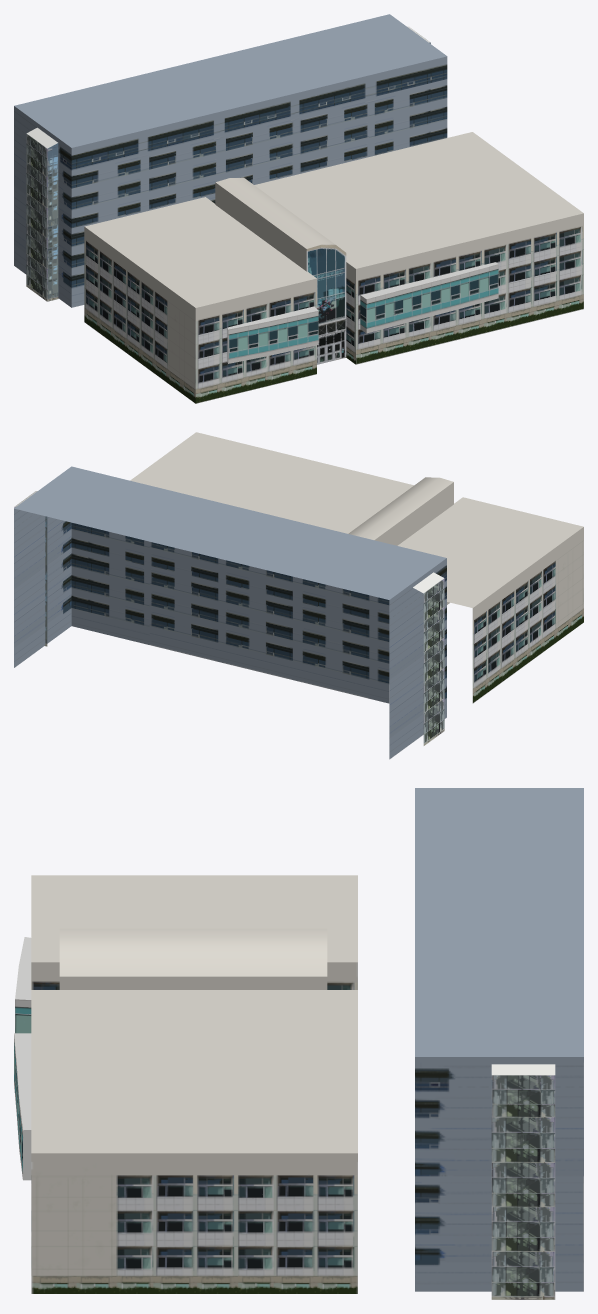
The model's file is icics.obj.
3 renders of one model, top to bottom at view 1: azimuth 30°, elevation 25°; view 2: azimuth 150°, elevation 25°; view 3: azimuth 270°, elevation 25°, orthographic. The views are drawn at different scales.
Parts seen in each view (by area): view 1: ICICS_Bldg_8_Mesh.001, ICICS_Bldg_6_Mesh.001, ICICS_Bldg_5_Mesh.001, ICICS_Bldg_7_Mesh.001, ICICS_Bldg_4_Mesh.001, ICICS_Bldg_2_Mesh.001, ICICS_Bldg_3_Mesh.001; view 2: ICICS_Bldg_8_Mesh.001, ICICS_Bldg_5_Mesh.001, ICICS_Bldg_6_Mesh.001, ICICS_Bldg_2_Mesh.001, ICICS_Bldg_7_Mesh.001, ICICS_Bldg_1_Mesh.001; view 3: ICICS_Bldg_6_Mesh.001, ICICS_Bldg_8_Mesh.001, ICICS_Bldg_5_Mesh.001, ICICS_Bldg_7_Mesh.001, ICICS_Bldg_1_Mesh.001, ICICS_Bldg_4_Mesh.001, ICICS_Bldg_3_Mesh.001.
Boxes of the visible parts, box(x1,y1,x2,y2) form: ICICS_Bldg_8_Mesh.001: box(14, 14, 447, 307); ICICS_Bldg_6_Mesh.001: box(254, 132, 583, 364); ICICS_Bldg_5_Mesh.001: box(84, 197, 316, 403); ICICS_Bldg_7_Mesh.001: box(215, 177, 346, 364); ICICS_Bldg_4_Mesh.001: box(360, 262, 498, 333); ICICS_Bldg_2_Mesh.001: box(26, 127, 58, 301); ICICS_Bldg_3_Mesh.001: box(227, 306, 318, 363); ICICS_Bldg_8_Mesh.001: box(14, 466, 446, 759); ICICS_Bldg_5_Mesh.001: box(397, 497, 583, 703); ICICS_Bldg_6_Mesh.001: box(130, 432, 413, 533); ICICS_Bldg_2_Mesh.001: box(413, 572, 444, 745); ICICS_Bldg_7_Mesh.001: box(348, 477, 453, 604); ICICS_Bldg_1_Mesh.001: box(14, 491, 47, 646); ICICS_Bldg_6_Mesh.001: box(31, 990, 357, 1293); ICICS_Bldg_8_Mesh.001: box(415, 788, 583, 1291); ICICS_Bldg_5_Mesh.001: box(31, 875, 357, 989); ICICS_Bldg_7_Mesh.001: box(59, 928, 327, 989); ICICS_Bldg_1_Mesh.001: box(491, 1064, 555, 1299); ICICS_Bldg_4_Mesh.001: box(14, 1033, 31, 1180); ICICS_Bldg_3_Mesh.001: box(15, 937, 31, 1033).
Size of the model in its own units: 0.0531 by 0.0206 by 0.0451.
